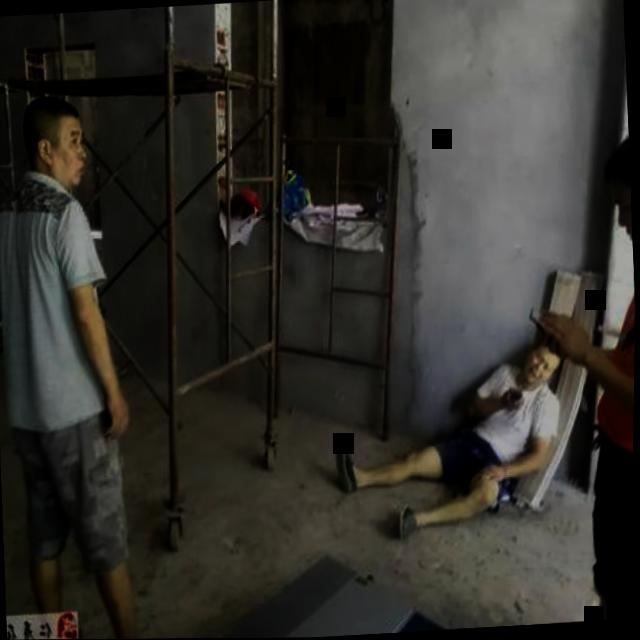Fall-Detected: (317, 315, 597, 550)
